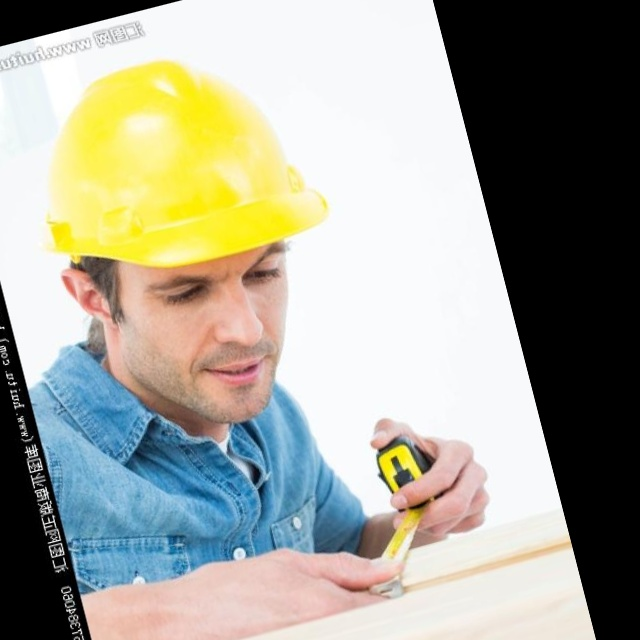Con_Casco: (13, 26, 368, 431)
